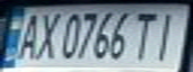0: (57, 9, 81, 61)
6: (109, 8, 139, 61), (93, 8, 118, 60)
7: (75, 8, 96, 60)
A: (12, 9, 45, 62)
I: (145, 8, 187, 62)
T: (127, 8, 163, 62)
X: (30, 9, 63, 61)
